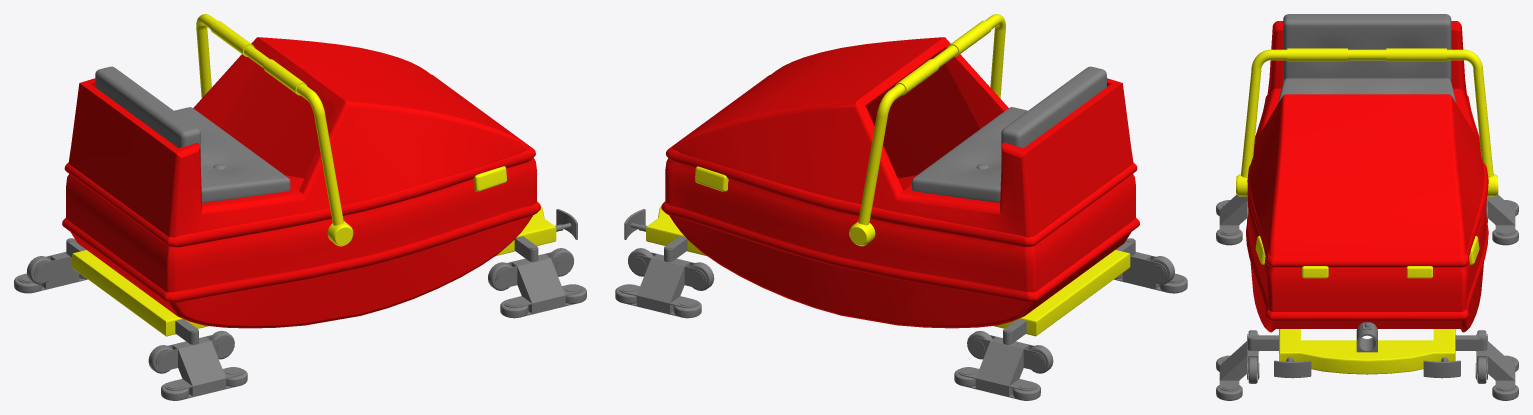
3 views of the same model, side by side, from view 1: azimuth 30°, elevation 25°; view 2: azimuth 150°, elevation 25°; view 3: azimuth 270°, elevation 25° (orthographic). The views are drawn at different scales.
Parts seen in each view (by area): view 1: polySurface3, transform47, RollerCoasterCart:RollerCoasterCart:polySurface76_f_4_; view 2: polySurface3, transform47, RollerCoasterCart:RollerCoasterCart:polySurface76_f_4_; view 3: polySurface3, transform47, RollerCoasterCart:RollerCoasterCart:polySurface76_f_4_.
Part boxes in pixels (<box>): polySurface3: <box>62,37,540,328</box>; transform47: <box>14,66,586,400</box>; RollerCoasterCart:RollerCoasterCart:polySurface76_f_4_: <box>72,14,556,336</box>; polySurface3: <box>661,37,1139,328</box>; transform47: <box>615,66,1187,400</box>; RollerCoasterCart:RollerCoasterCart:polySurface76_f_4_: <box>646,14,1130,336</box>; polySurface3: <box>1246,21,1488,332</box>; transform47: <box>1216,14,1518,400</box>; RollerCoasterCart:RollerCoasterCart:polySurface76_f_4_: <box>1236,48,1498,374</box>.
Size of the model in its own units: 2.15 by 1.17 by 1.35.
